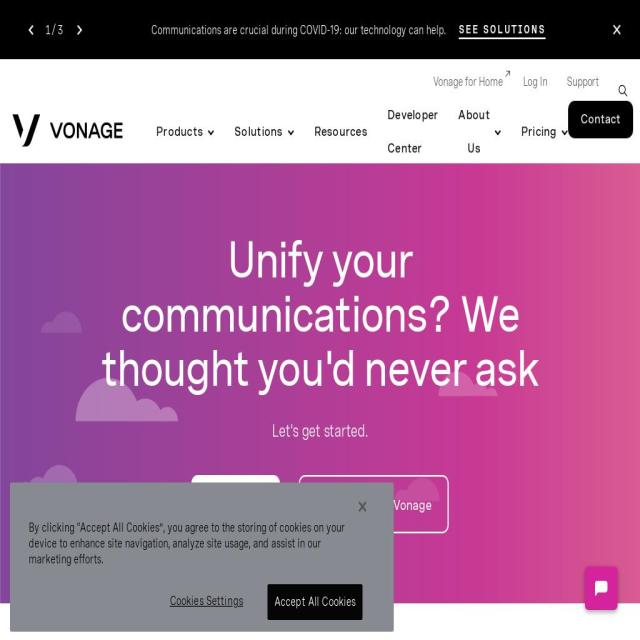button: (299, 475, 449, 533), (191, 475, 280, 533), (12, 114, 122, 150), (151, 584, 261, 618), (423, 63, 513, 102), (267, 584, 363, 620), (388, 98, 438, 167), (458, 98, 501, 167), (568, 101, 633, 138), (234, 115, 294, 150), (156, 115, 215, 150), (557, 63, 609, 102), (314, 115, 368, 150), (512, 63, 558, 102), (458, 20, 546, 39), (521, 115, 568, 150)
heading: (92, 233, 548, 396)
image: (0, 59, 640, 163), (12, 114, 122, 147)
text: (10, 520, 394, 584), (119, 421, 521, 442), (151, 21, 446, 38), (58, 21, 64, 38), (46, 21, 51, 38)
